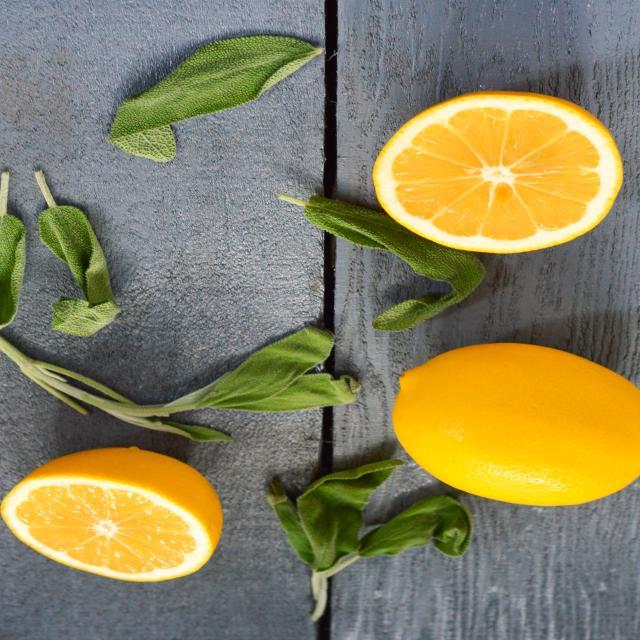lemon: (353, 88, 627, 260), (392, 335, 640, 510), (1, 437, 235, 588)
